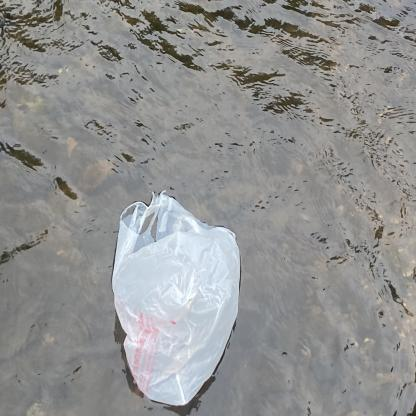trash: (108, 186, 250, 412)
